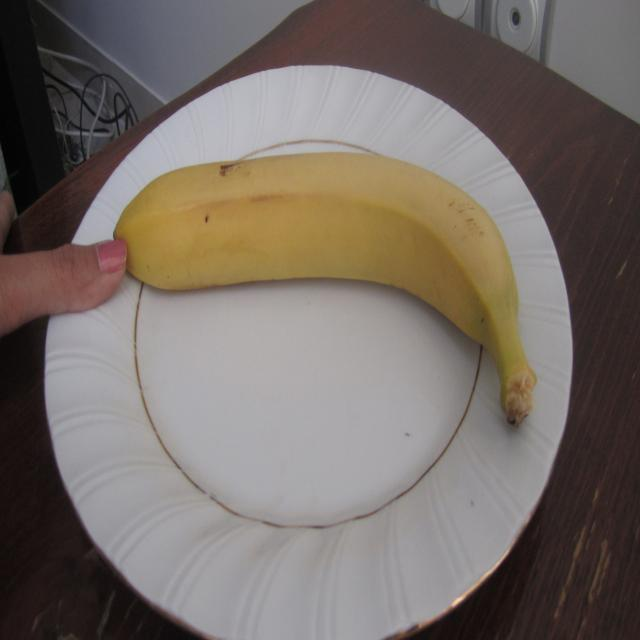Banana: (116, 146, 542, 443)
Finger: (42, 232, 132, 312)
